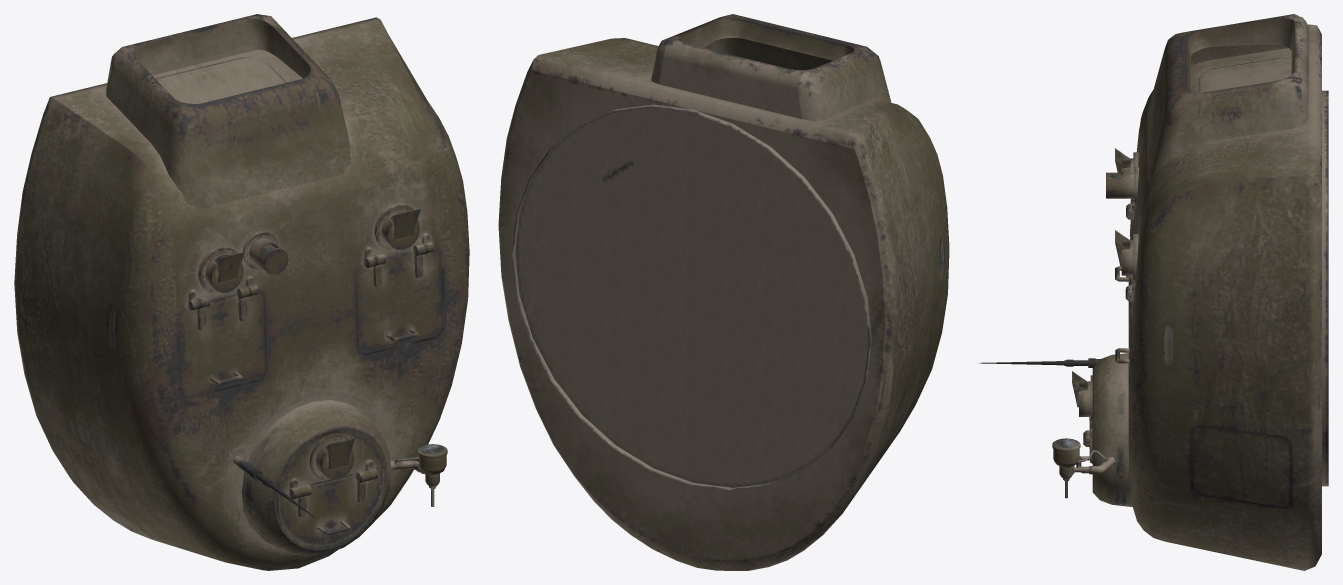
File: Turret_01.glb
3 views of the same model, side by side, from view 1: azimuth 30°, elevation 25°; view 2: azimuth 150°, elevation 25°; view 3: azimuth 270°, elevation 25° (orthographic). The views are drawn at different scales.
Parts seen in each view (by area): view 1: set_0_group_0; view 2: set_0_group_0; view 3: set_0_group_0.
Boxes of the visible parts, bbox=[...] form: set_0_group_0: bbox=[14, 14, 469, 570]; set_0_group_0: bbox=[498, 14, 949, 570]; set_0_group_0: bbox=[978, 14, 1328, 570].
Size of the model in its own units: 2.01 by 2.5 by 1.6.
1 material, 1 textured.
